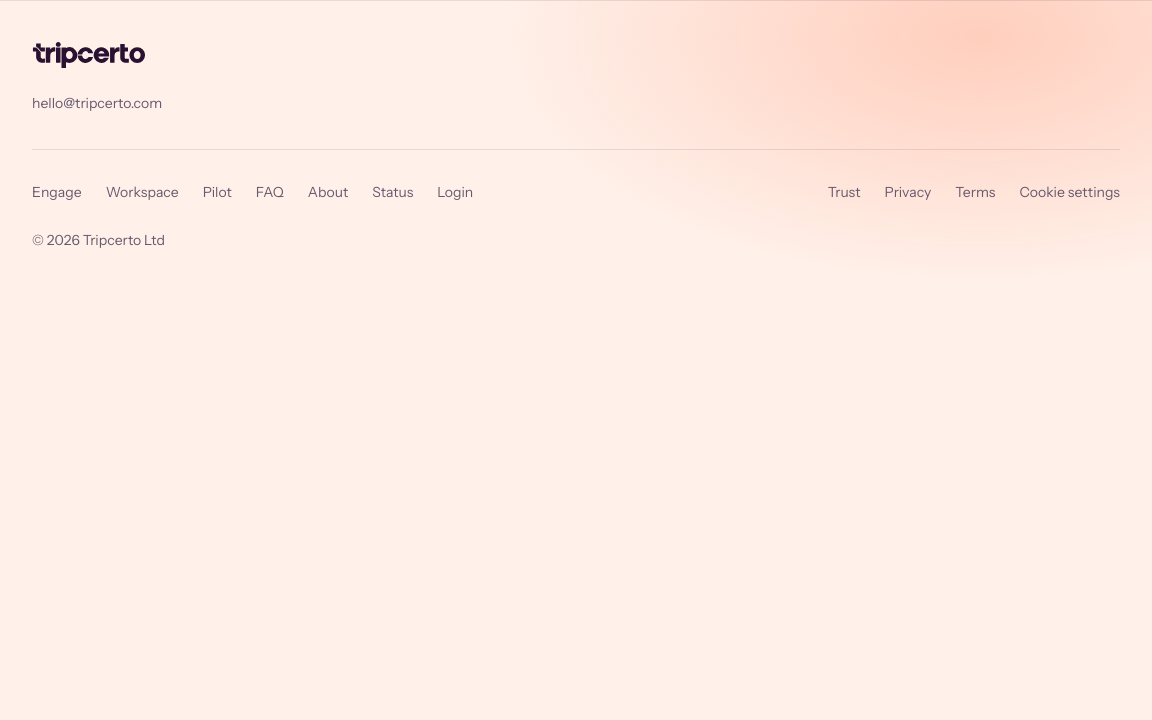
Scenario: the footer › offers Cookie settings with the legal pages, set as they are, which asks again
Click the button "Cookie settings" at coordinates (1070, 192), box [1020, 170, 1120, 214]
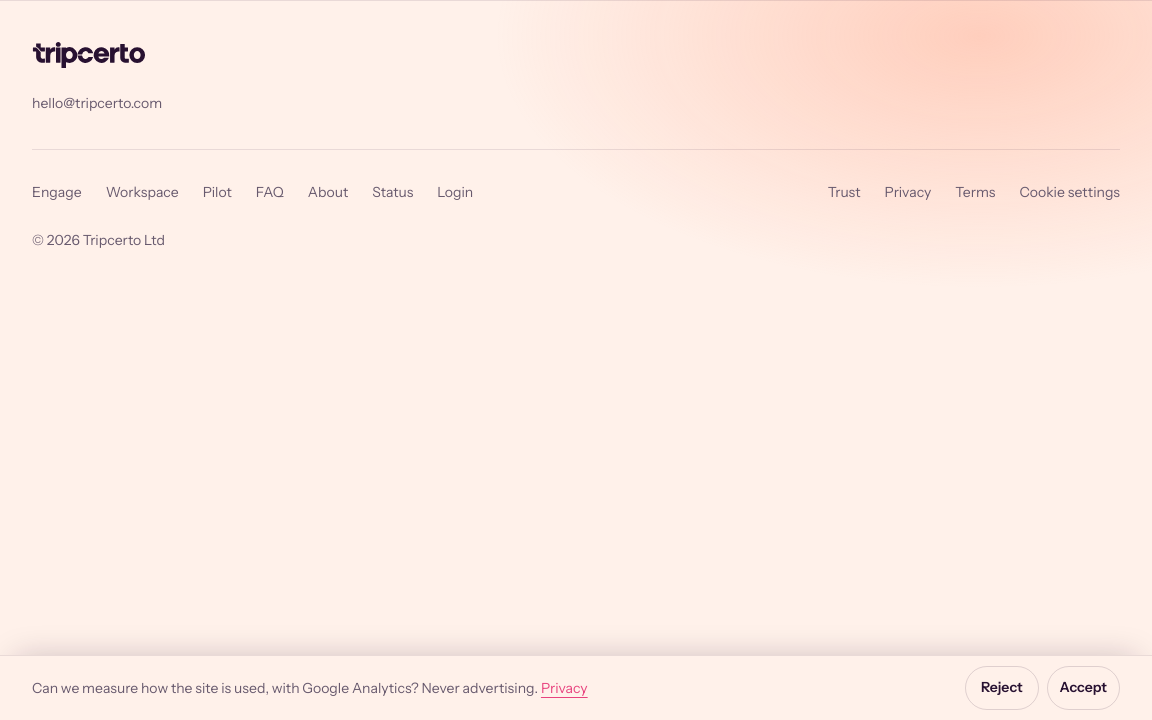
Check: the element named "Analytics permission" is shown, box [0, 655, 1151, 719]
